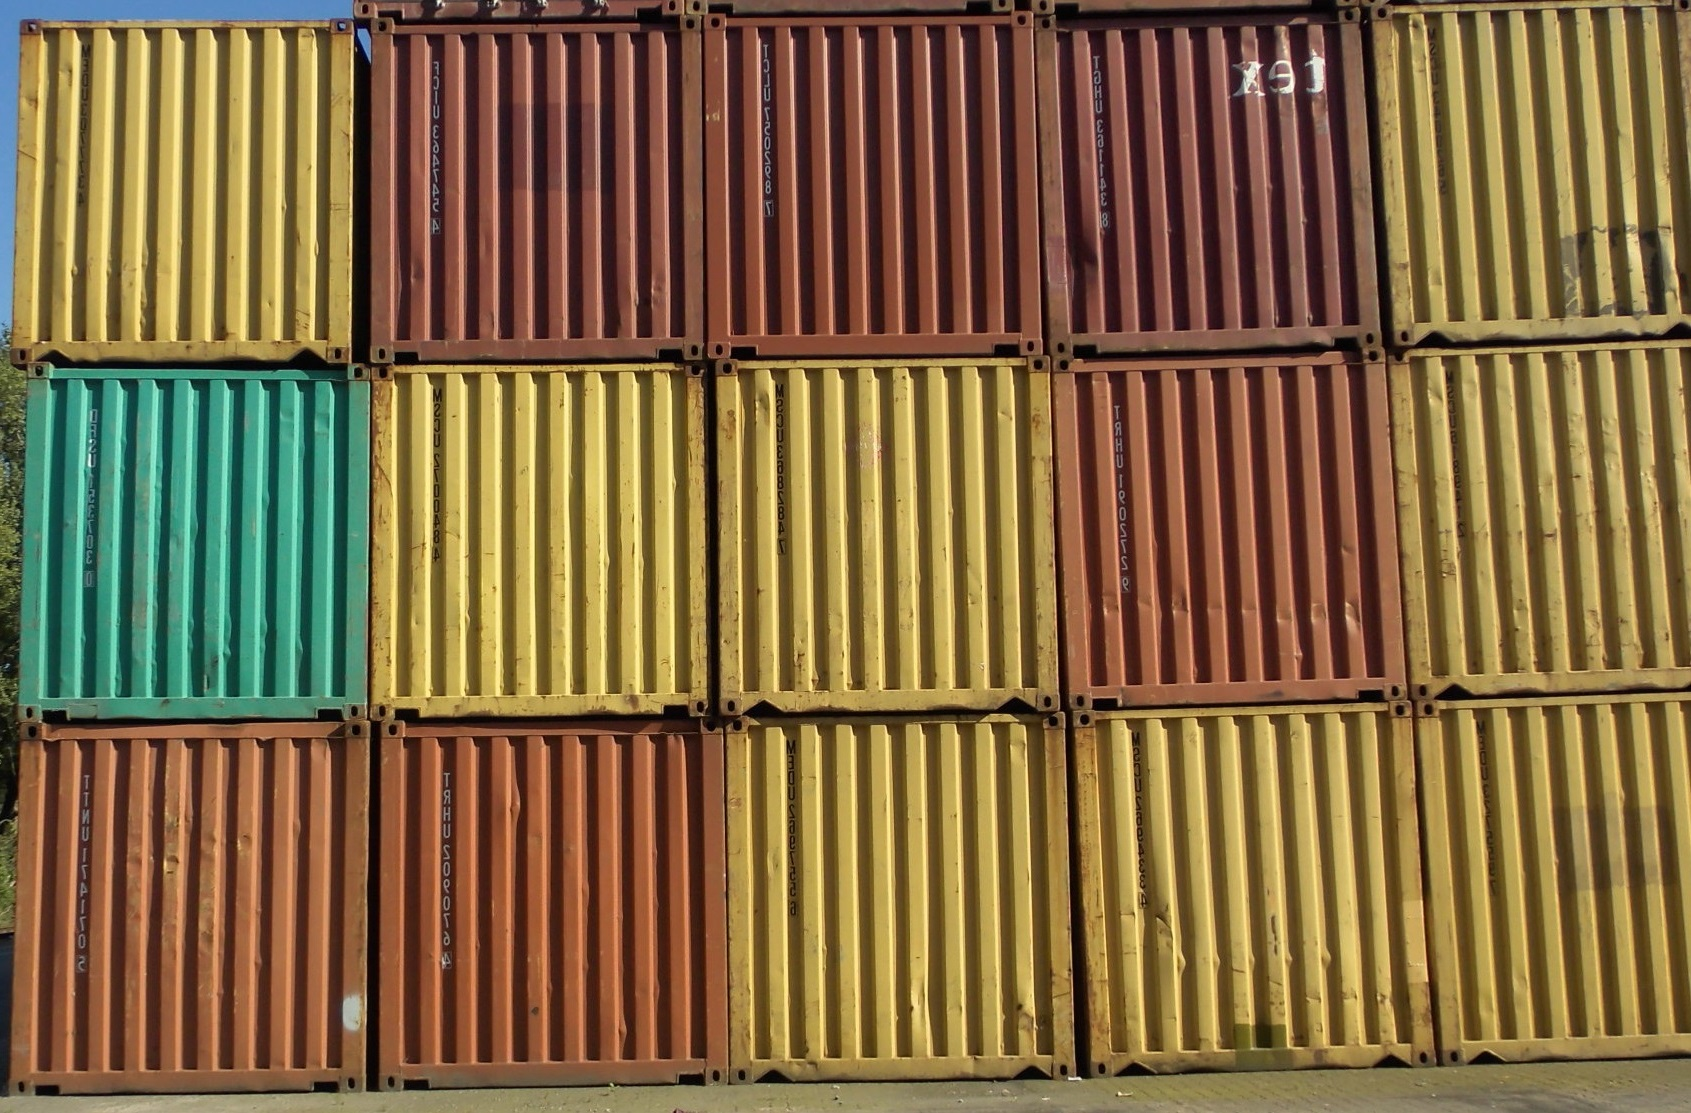container_no_door: (17, 725, 368, 1088), (720, 712, 1070, 1074), (366, 727, 716, 1088), (1076, 706, 1427, 1067), (701, 359, 1063, 706), (1050, 357, 1410, 702), (365, 20, 711, 361), (704, 17, 1050, 359), (1040, 11, 1387, 352), (369, 369, 701, 717), (34, 374, 366, 722), (11, 27, 353, 354), (1391, 348, 1691, 697), (1391, 1, 1691, 349), (1423, 702, 1691, 1063)
